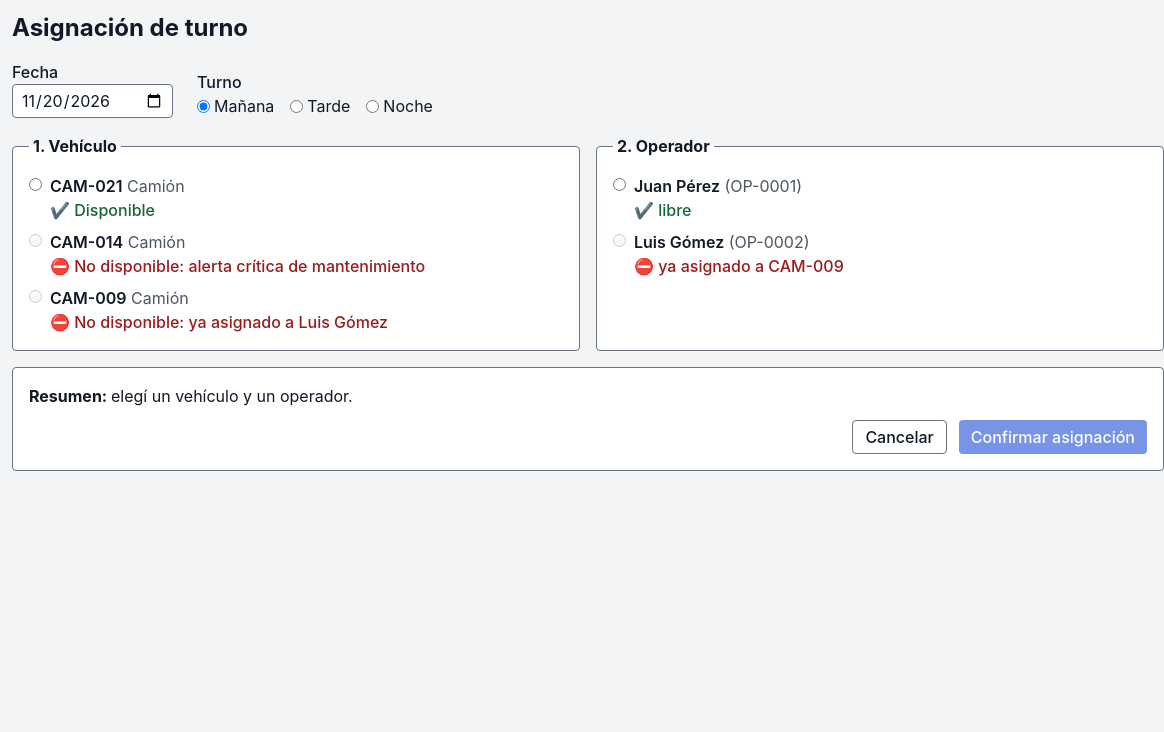
Test case: ShiftsPage › Deshacer cancela la asignación creada
Click the radio button labelled "CAM-021 Camión✔ Disponible" at coordinates (36, 184), box [29,178,42,191]
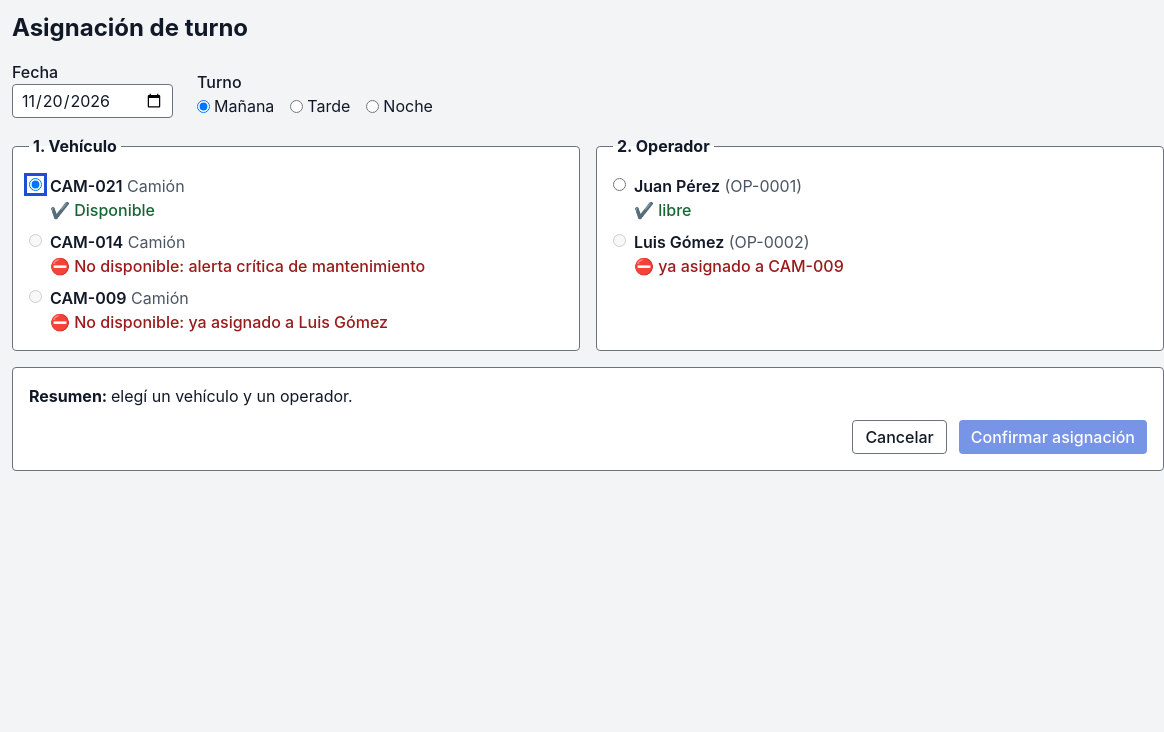
Click the radio button labelled "Juan Pérez (OP-0001)✔ libre" at coordinates (620, 184), box [613,178,626,191]
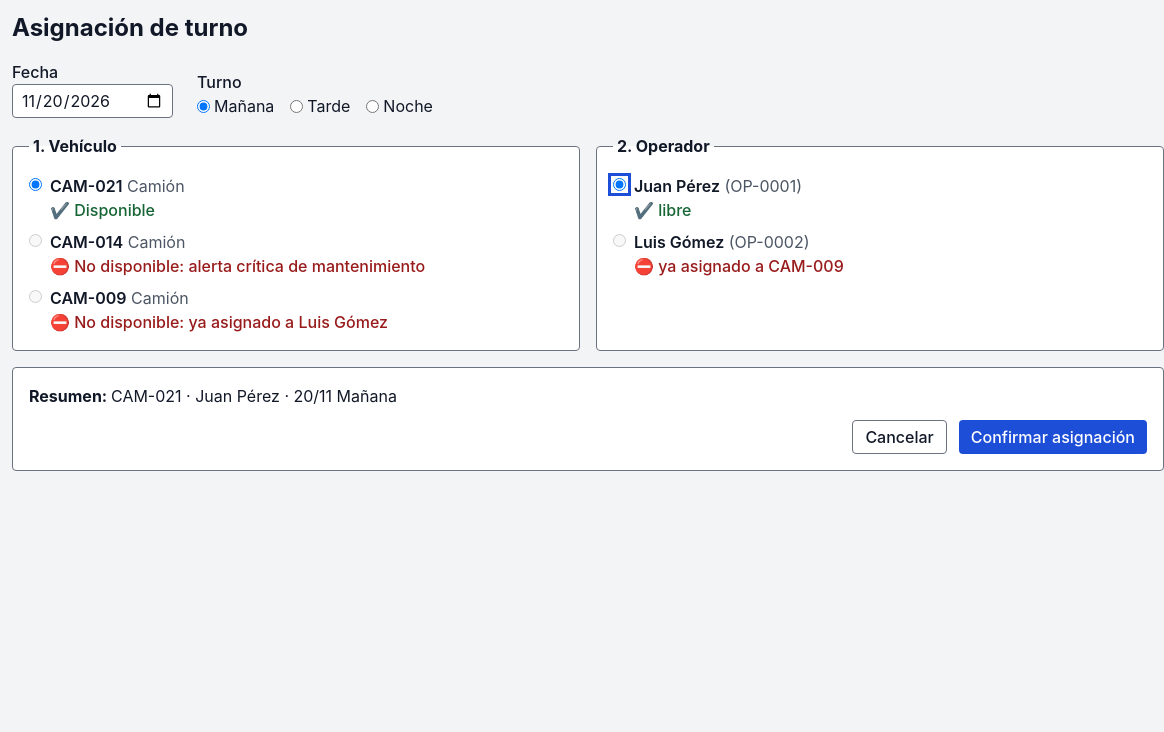
Click the button "Confirmar asignación" at coordinates (1053, 437), box [959,420,1147,454]
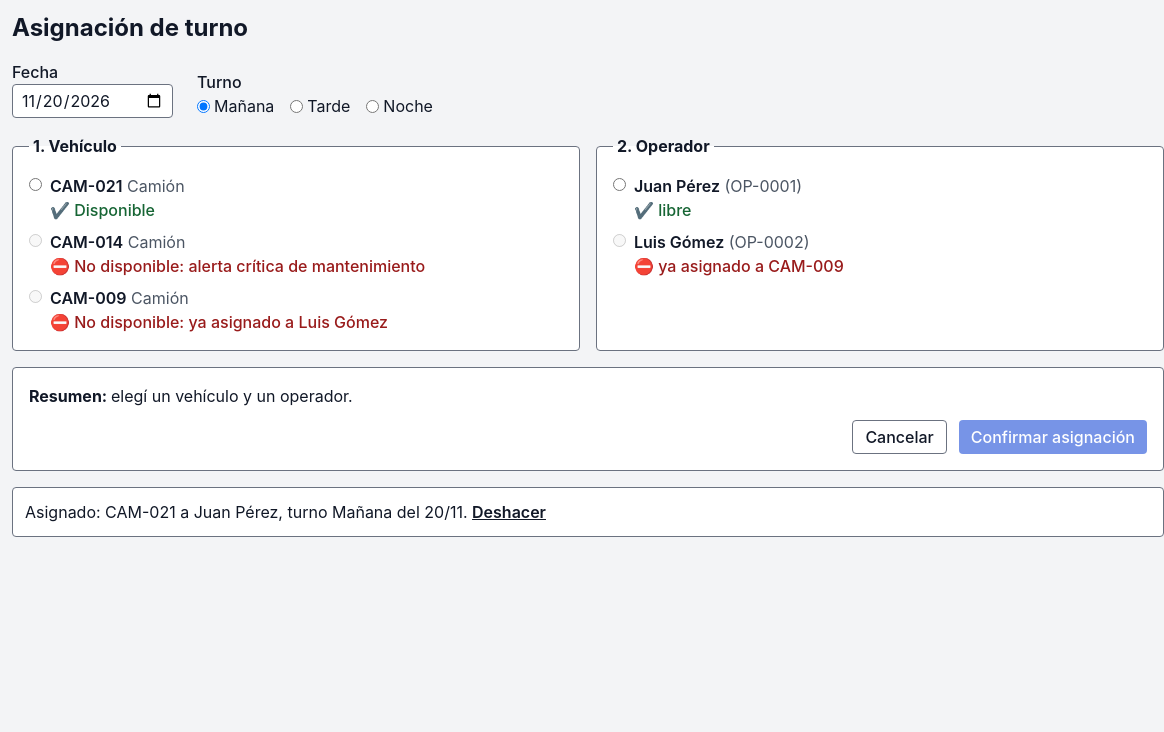
Click the button "Deshacer" at coordinates (509, 512), box [472,500,546,524]
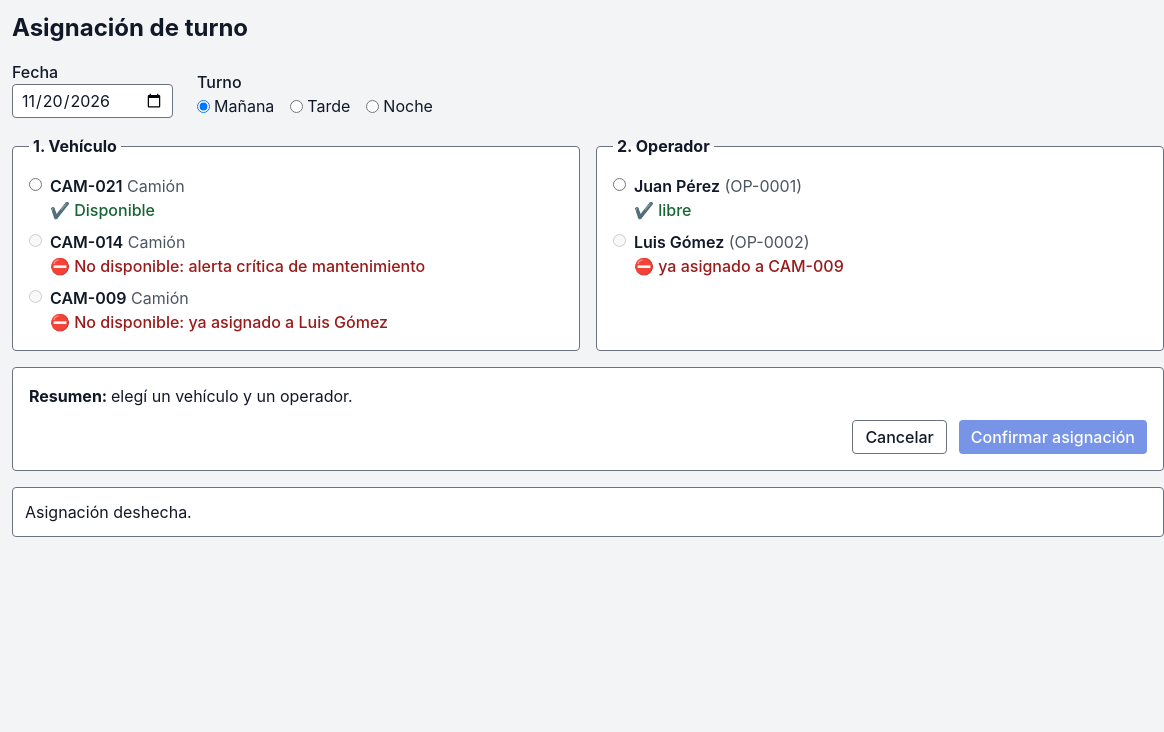
Check: the text "Asignación deshecha." is shown, box [12,487,1163,537]
